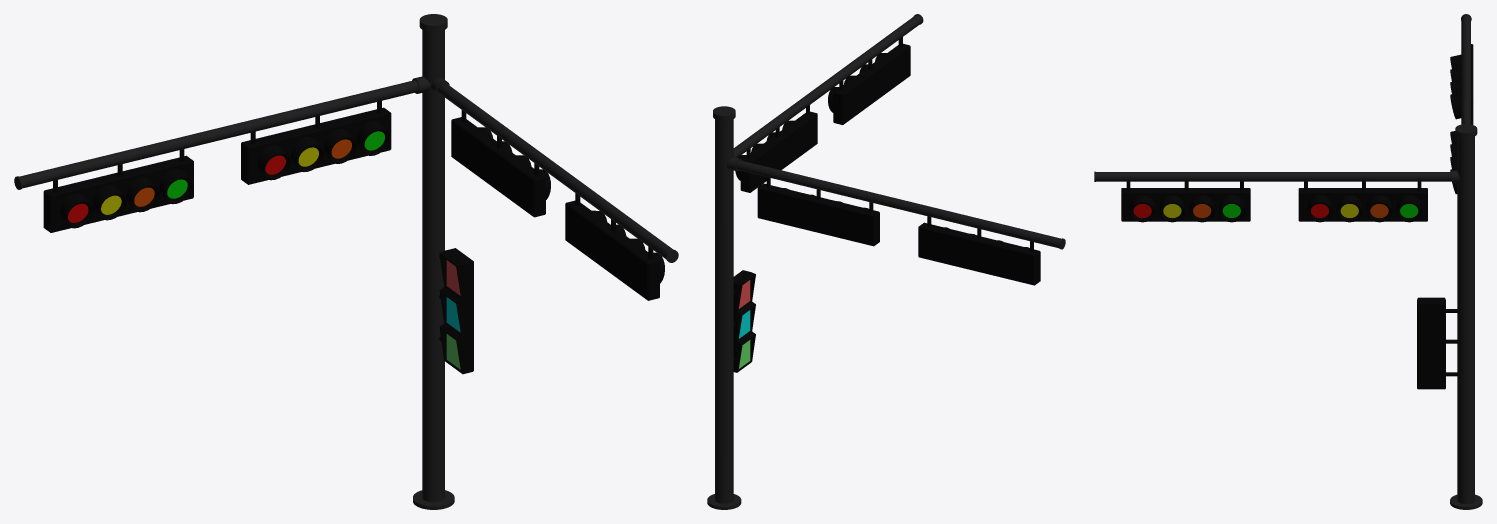
File: stoplight_1.fbx
3 renders of one model, left to right at view 1: azimuth 30°, elevation 25°; view 2: azimuth 150°, elevation 25°; view 3: azimuth 270°, elevation 25°, orthographic. The views are drawn at different scales.
Visible parts, largest first — view 1: stoplight_3_polySurface1628; view 2: stoplight_3_polySurface1628; view 3: stoplight_3_polySurface1628.
Part boxes in pixels (x1,y1,x2,y2): stoplight_3_polySurface1628: (14, 14, 678, 509); stoplight_3_polySurface1628: (707, 14, 1065, 509); stoplight_3_polySurface1628: (1094, 14, 1482, 509).
Bounding box in the file's own units: 166 × 176 × 165.
